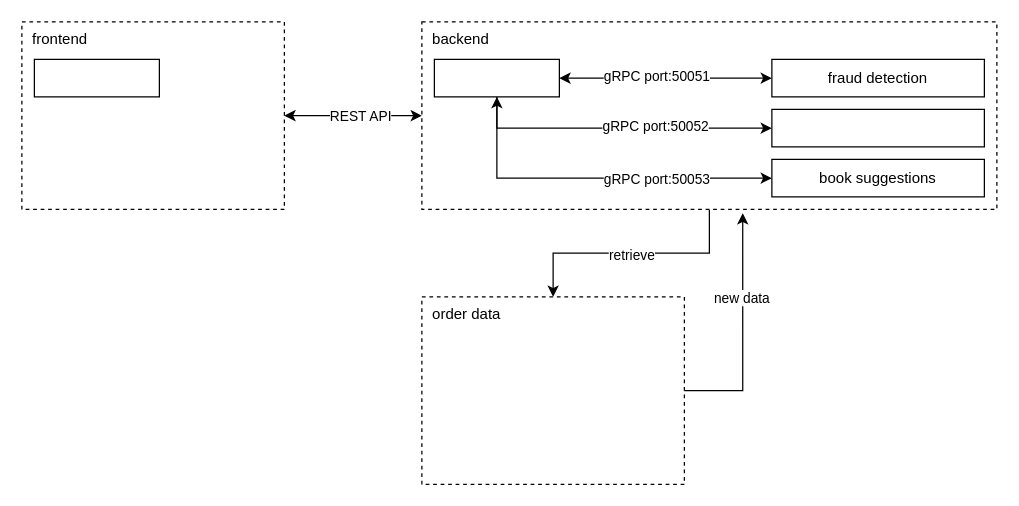
This 1019x506 diagram has some shape labels left out. The centre of each missing label's shape, as x and y in pixels:
"orchestrator service" belongs at (496,77).
"transaction verification" belongs at (877,127).
"web" belongs at (96,77).
